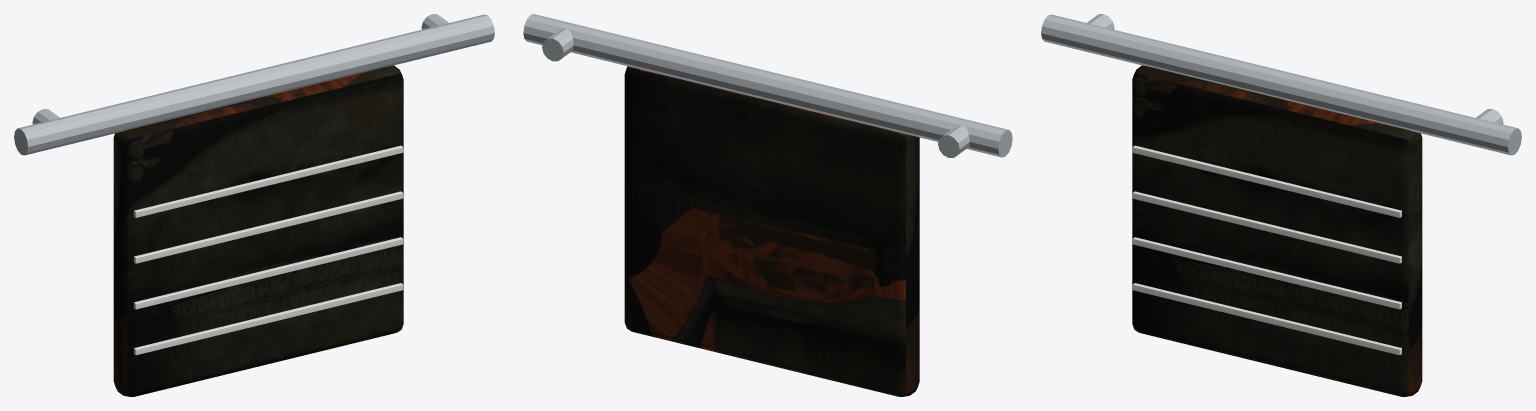
Rendered from towel_rail_silver.glb.
3 renders of one model, left to right at view 1: azimuth 30°, elevation 25°; view 2: azimuth 150°, elevation 25°; view 3: azimuth 330°, elevation 25°, orthographic.
Parts seen in each view (by area): view 1: hanging towel, rail, towel stripe.003, towel stripe, towel stripe.001, towel stripe.002; view 2: hanging towel, rail, mount.001, mount; view 3: hanging towel, rail, towel stripe.003, towel stripe, towel stripe.001, towel stripe.002.
Boxes of the visible parts, <box> form: hanging towel: <box>113,65,403,396</box>; rail: <box>14,14,494,155</box>; towel stripe.003: <box>134,145,403,217</box>; towel stripe: <box>134,283,403,355</box>; towel stripe.001: <box>134,237,403,309</box>; towel stripe.002: <box>134,191,403,263</box>; hanging towel: <box>624,66,919,396</box>; rail: <box>523,14,1012,157</box>; mount.001: <box>542,28,573,61</box>; mount: <box>938,125,969,157</box>; hanging towel: <box>1132,65,1422,396</box>; rail: <box>1041,14,1521,155</box>; towel stripe.003: <box>1132,145,1401,217</box>; towel stripe: <box>1132,283,1401,355</box>; towel stripe.001: <box>1132,237,1401,309</box>; towel stripe.002: <box>1132,191,1401,263</box>.
Bounding box in the file's own units: 0.96 × 0.565 × 0.114.
3 materials, 1 textured.
